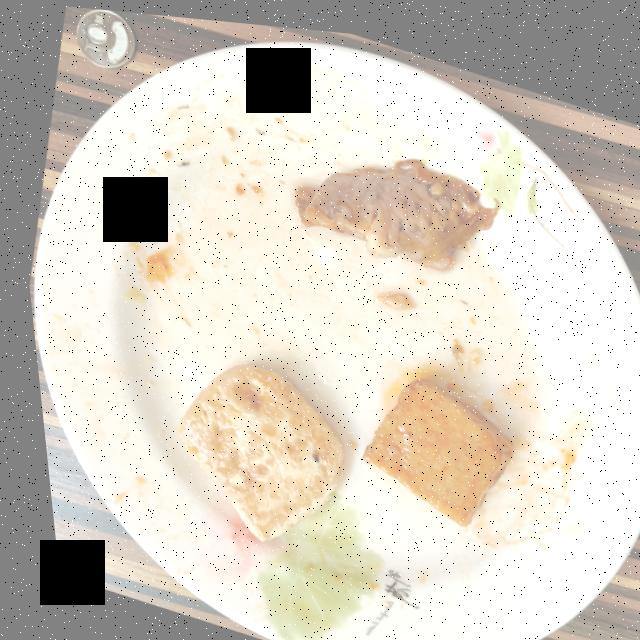Kabayaki sea bream fillet: (291, 149, 495, 261)
coin: (75, 7, 134, 65)
creamy tofu: (353, 369, 505, 517)
